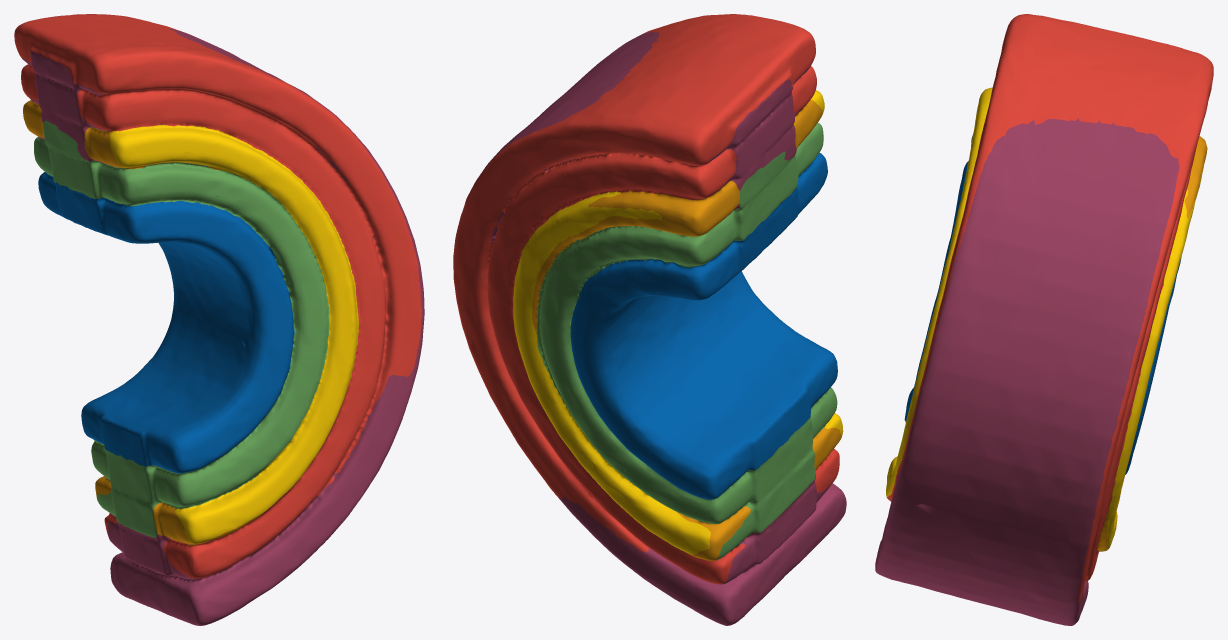
Rendered from Stack 5C - Rainbow.glb.
The picture shows the model from 3 angles, left to right: view 1: azimuth 30°, elevation 25°; view 2: azimuth 150°, elevation 25°; view 3: azimuth 270°, elevation 25°; orthographic projection. The views are drawn at different scales.
Visible parts, largest first — view 1: Stack 5C - Rainbow · mesh; view 2: Stack 5C - Rainbow · mesh; view 3: Stack 5C - Rainbow · mesh.
Part boxes in pixels (left/top/right/bottom): Stack 5C - Rainbow · mesh: left=14, top=14, right=424, bottom=625; Stack 5C - Rainbow · mesh: left=453, top=14, right=846, bottom=625; Stack 5C - Rainbow · mesh: left=875, top=14, right=1213, bottom=625.
Bounding box in the file's own units: 0.5601 × 1 × 0.5352.
